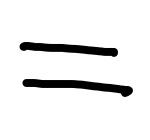eqv: (18, 41, 134, 97)
